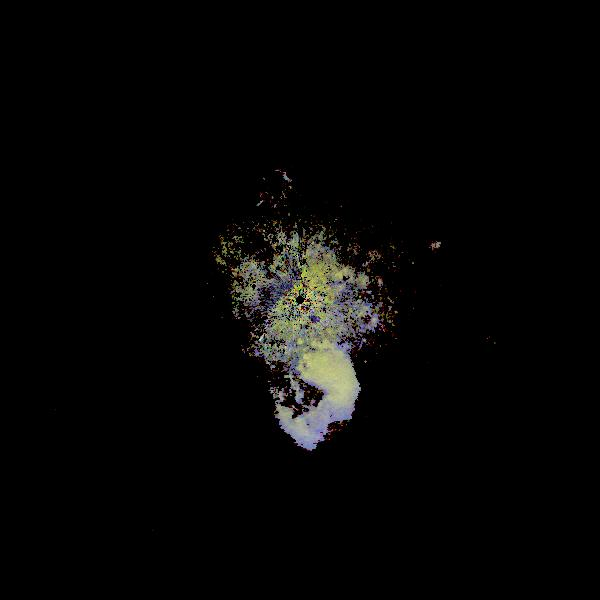roost: (227, 312, 386, 471)
